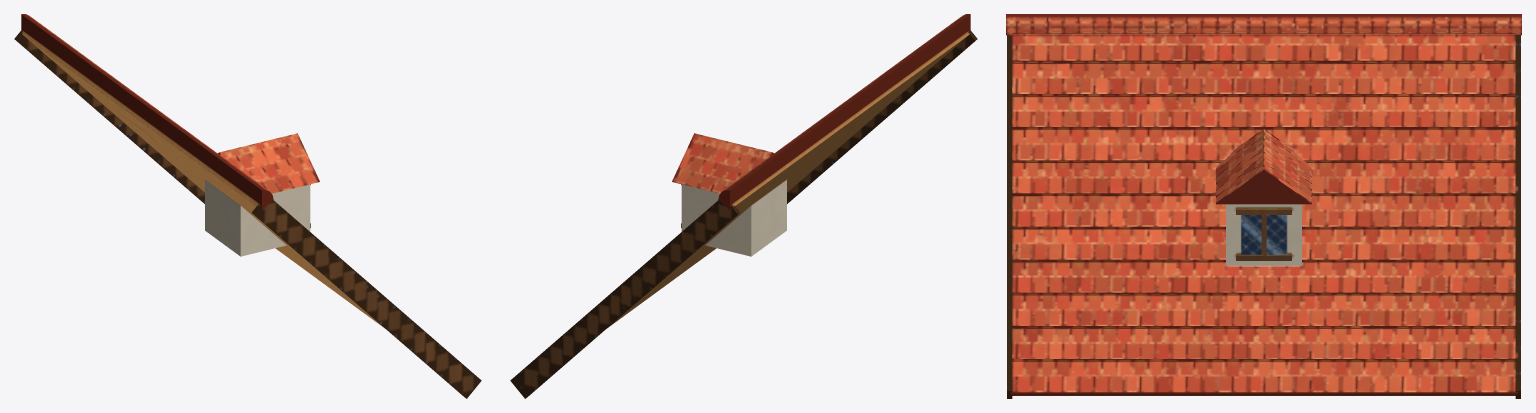
File: Kit_House_Roof_Fractured.fbx
3 renders of one model, left to right at view 1: azimuth 30°, elevation 25°; view 2: azimuth 150°, elevation 25°; view 3: azimuth 270°, elevation 25°, orthographic. The views are drawn at different scales.
Parts seen in each view (by area): view 1: Kit_House_Roof_frag_02, Kit_House_Roof_frag_06, Kit_House_Roof_frag_01, Kit_House_Roof_frag_07, Kit_House_Roof_frag_04, Kit_House_Roof_frag_08, Kit_House_Roof_frag_03, Kit_House_Roof_frag_05; view 2: Kit_House_Roof_frag_02, Kit_House_Roof_frag_08, Kit_House_Roof_frag_01, Kit_House_Roof_frag_03, Kit_House_Roof_frag_07, Kit_House_Roof_frag_04, Kit_House_Roof_frag_06, Kit_House_Roof_frag_05; view 3: Kit_House_Roof_frag_02, Kit_House_Roof_frag_06, Kit_House_Roof_frag_08, Kit_House_Roof_frag_03, Kit_House_Roof_frag_07, Kit_House_Roof_frag_01, Kit_House_Roof_frag_05, Kit_House_Roof_frag_04.
Boxes of the visible parts, <box> form: Kit_House_Roof_frag_02: <box>14,14,313,253</box>; Kit_House_Roof_frag_06: <box>260,205,481,398</box>; Kit_House_Roof_frag_01: <box>104,101,319,199</box>; Kit_House_Roof_frag_07: <box>143,130,351,271</box>; Kit_House_Roof_frag_04: <box>209,214,384,327</box>; Kit_House_Roof_frag_08: <box>77,88,357,308</box>; Kit_House_Roof_frag_03: <box>59,72,371,318</box>; Kit_House_Roof_frag_05: <box>284,184,310,227</box>; Kit_House_Roof_frag_02: <box>680,14,977,251</box>; Kit_House_Roof_frag_08: <box>510,247,678,398</box>; Kit_House_Roof_frag_01: <box>681,133,771,211</box>; Kit_House_Roof_frag_03: <box>649,203,756,297</box>; Kit_House_Roof_frag_07: <box>736,74,929,231</box>; Kit_House_Roof_frag_04: <box>756,98,909,252</box>; Kit_House_Roof_frag_06: <box>663,142,845,287</box>; Kit_House_Roof_frag_05: <box>672,161,718,227</box>; Kit_House_Roof_frag_02: <box>1006,14,1521,114</box>; Kit_House_Roof_frag_06: <box>1007,202,1247,398</box>; Kit_House_Roof_frag_08: <box>1242,128,1520,398</box>; Kit_House_Roof_frag_03: <box>1212,100,1520,395</box>; Kit_House_Roof_frag_07: <box>1007,103,1329,208</box>; Kit_House_Roof_frag_01: <box>1216,106,1489,204</box>; Kit_House_Roof_frag_05: <box>1218,186,1311,265</box>; Kit_House_Roof_frag_04: <box>1007,167,1152,223</box>.
Size of what is drawn, in the model's own units: 3.1 by 3.37 by 5.68.
